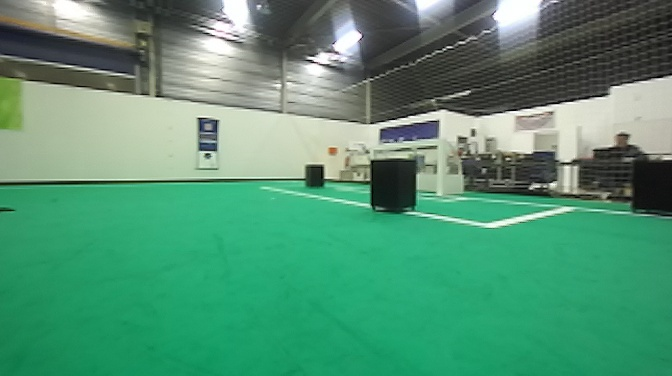goalpost: (437, 139, 442, 199), (368, 148, 379, 161)
